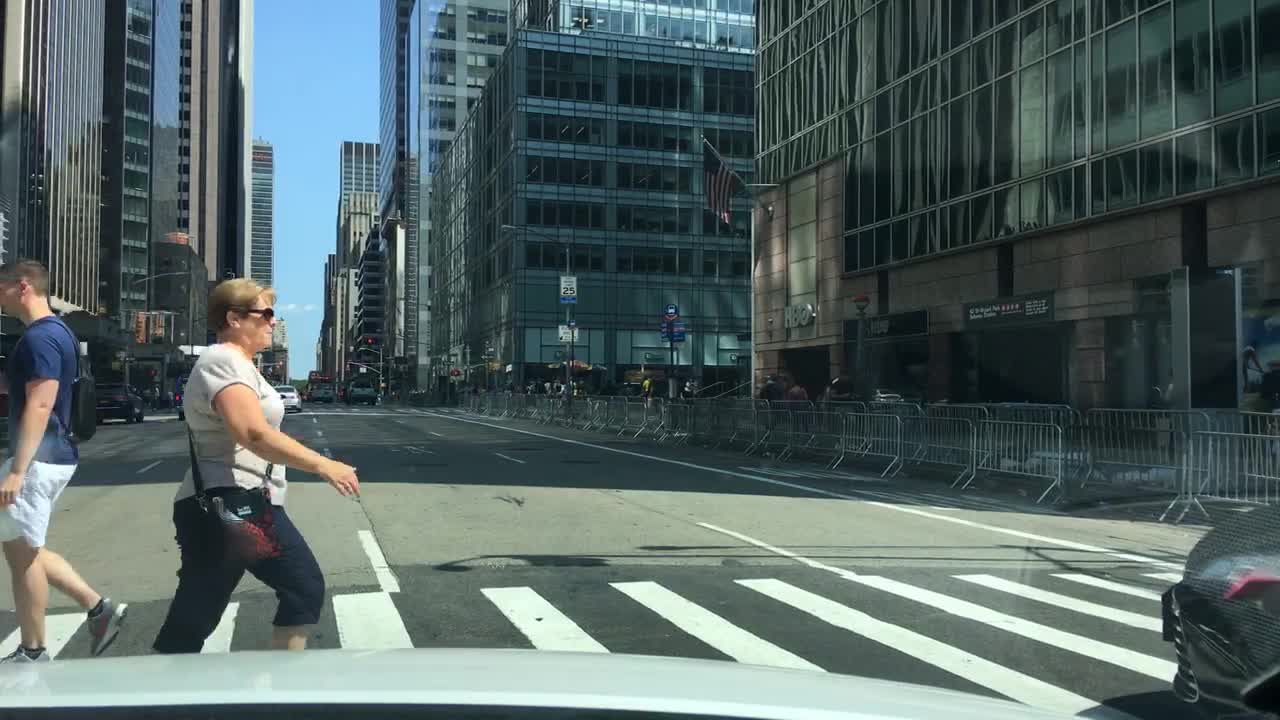car: (1159, 498, 1279, 719), (91, 380, 145, 428), (342, 376, 378, 408), (170, 374, 192, 420), (270, 383, 303, 410), (307, 380, 334, 403)
person: (150, 273, 361, 658), (0, 255, 135, 665), (1151, 366, 1179, 447), (759, 368, 788, 430), (786, 378, 813, 435), (638, 373, 658, 403), (501, 371, 516, 396), (533, 374, 546, 396), (469, 380, 482, 401), (523, 374, 535, 396)
traffic sign: (558, 273, 577, 300), (555, 322, 577, 341), (661, 300, 680, 320), (671, 324, 687, 342), (660, 322, 671, 346)
